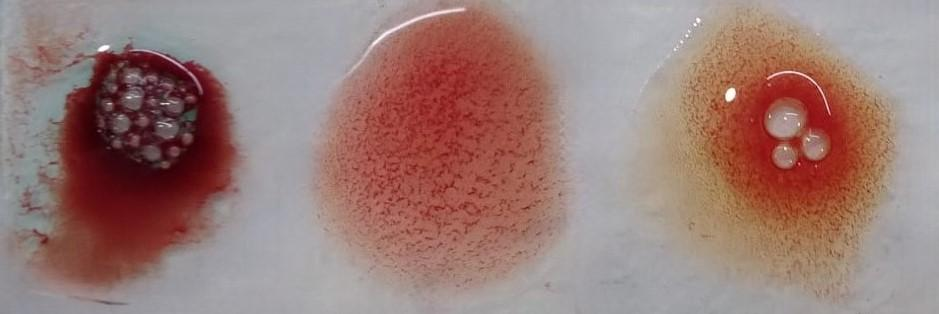A: (15, 7, 220, 302)
B: (663, 14, 898, 301)
D: (336, 11, 552, 278)
